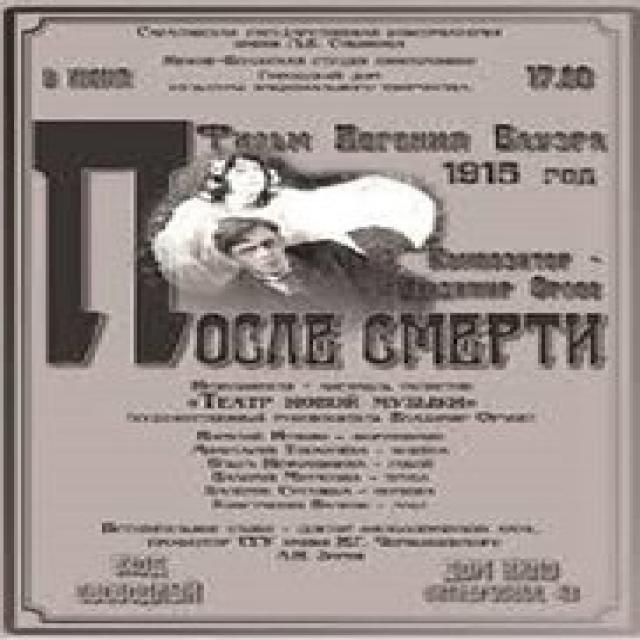movie-judul: (33, 122, 615, 372)
picture: (157, 156, 446, 315)
